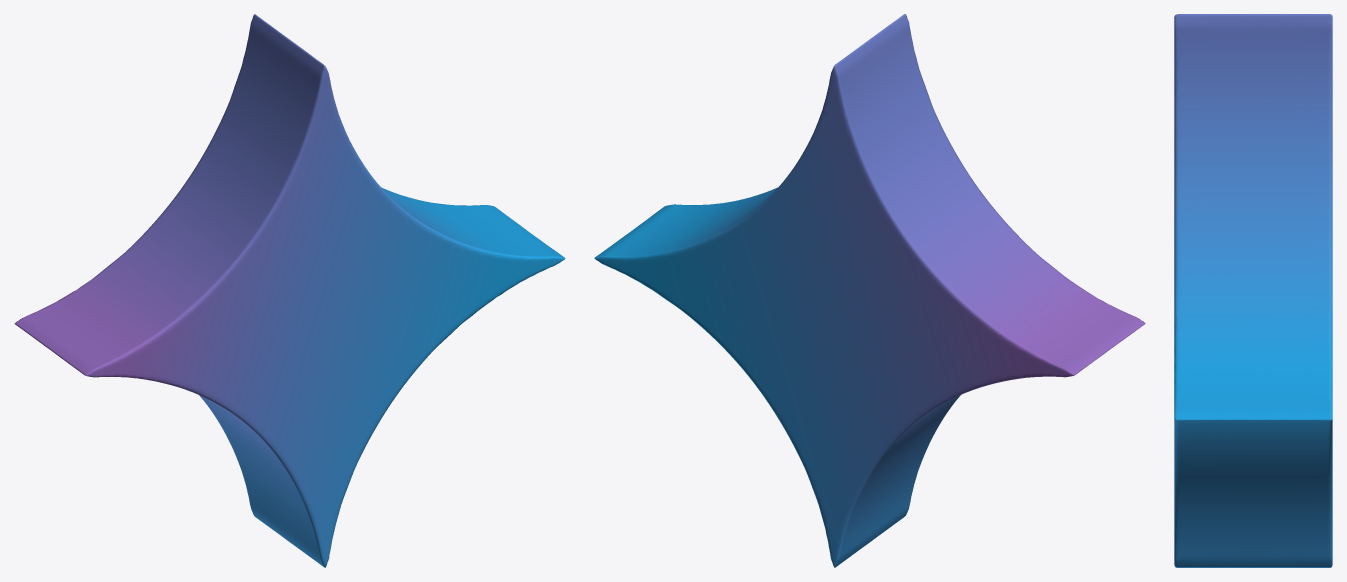
The picture shows the model from 3 angles, left to right: view 1: azimuth 30°, elevation 25°; view 2: azimuth 150°, elevation 25°; view 3: azimuth 270°, elevation 25°; orthographic projection. The views are drawn at different scales.
Parts seen in each view (by area): view 1: Google Icon.002; view 2: Google Icon.002; view 3: Google Icon.002.
Boxes of the visible parts, <box> form: Google Icon.002: <box>14,14,565,567</box>; Google Icon.002: <box>594,14,1145,567</box>; Google Icon.002: <box>1174,14,1332,567</box>.
Size of the model in its own units: 0.606 by 0.6058 by 0.157.
1 material, 1 textured.
